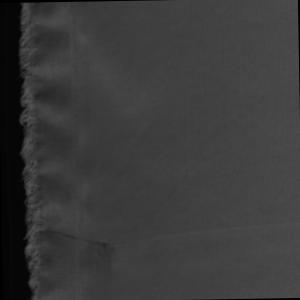Damage: (4, 2, 55, 300)
Stain: (30, 221, 122, 273)
